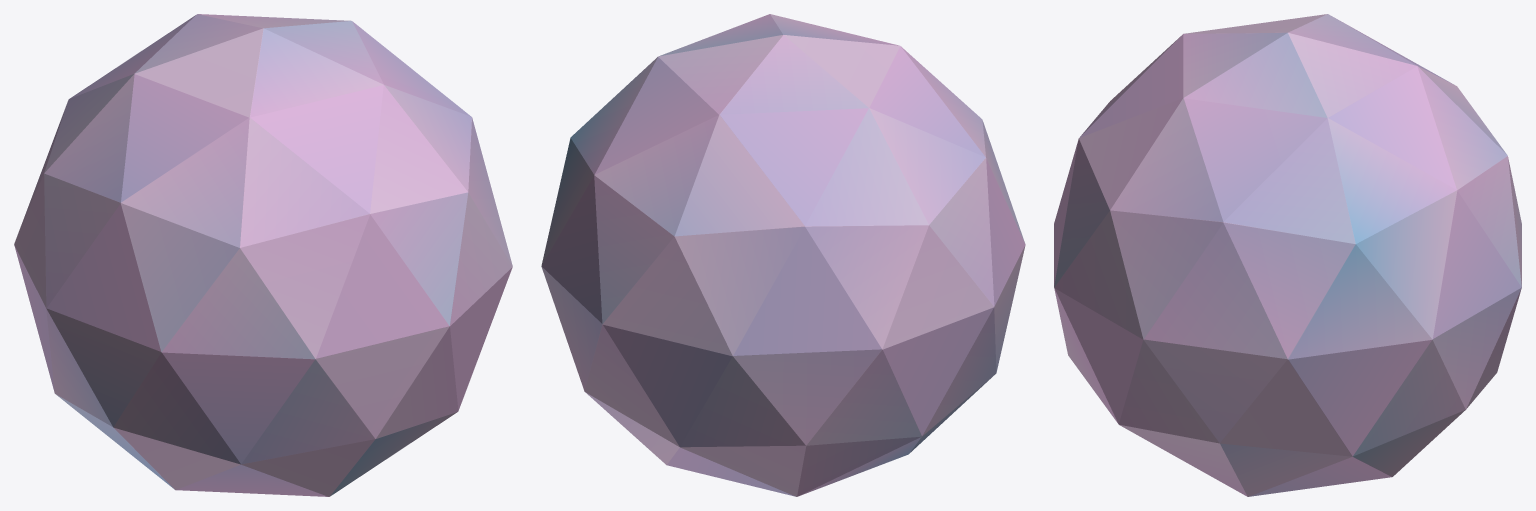
3 renders of one model, left to right at view 1: azimuth 30°, elevation 25°; view 2: azimuth 150°, elevation 25°; view 3: azimuth 270°, elevation 25°, orthographic. The views are drawn at different scales.
Parts seen in each view (by area): view 1: facets; view 2: facets; view 3: facets.
Boxes of the visible parts, x1,y1,x2,y2 form: facets: (14, 14, 512, 496); facets: (541, 14, 1025, 496); facets: (1054, 14, 1521, 496).
Size of the model in its own units: 0.5002 by 0.5001 by 0.4757.
